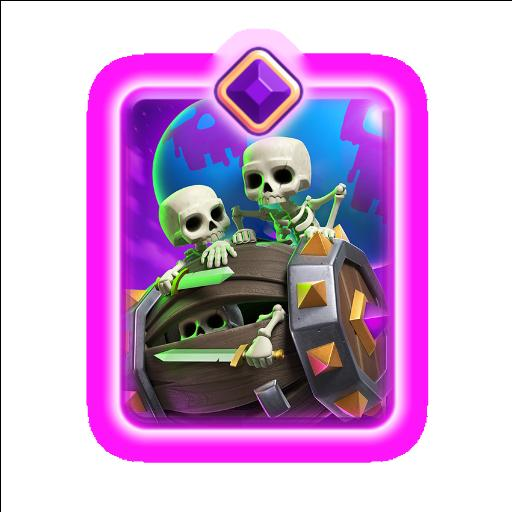skeleton-barrel-evo: (129, 94, 387, 424)
